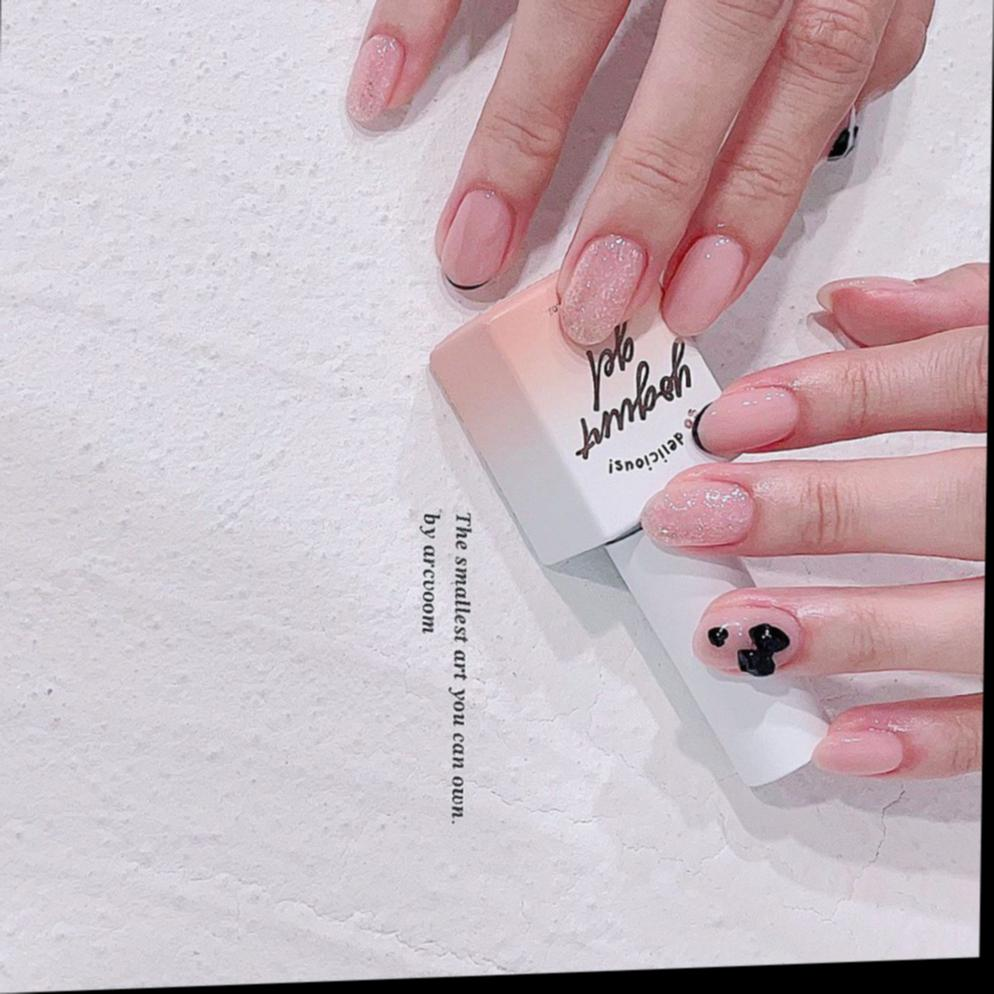nail: (558, 230, 649, 346), (660, 230, 750, 337), (639, 474, 758, 551), (439, 185, 517, 291), (693, 381, 802, 456), (346, 32, 406, 125), (812, 727, 905, 777)
